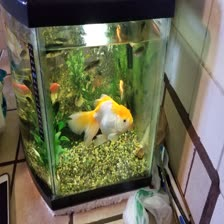Cuezo: (65, 97, 132, 144)
